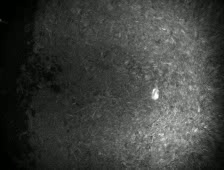corn: (149, 86, 162, 102)
